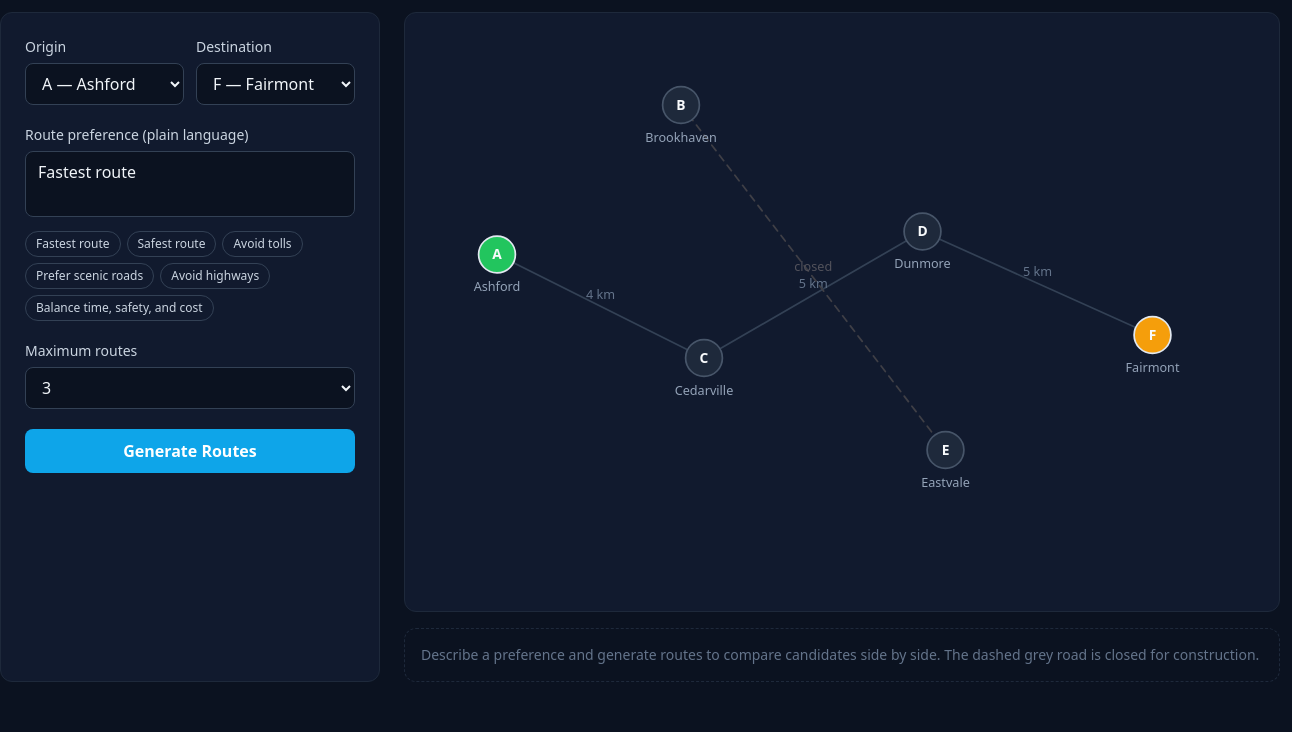
Test: RoutePlanner › clicking an example chip fills the preference input
Expected: the dropdown labelled "Origin" is shown, [25,63,184,105]
Click the button "Avoid highways": x=215, y=276 [160,263,270,289]
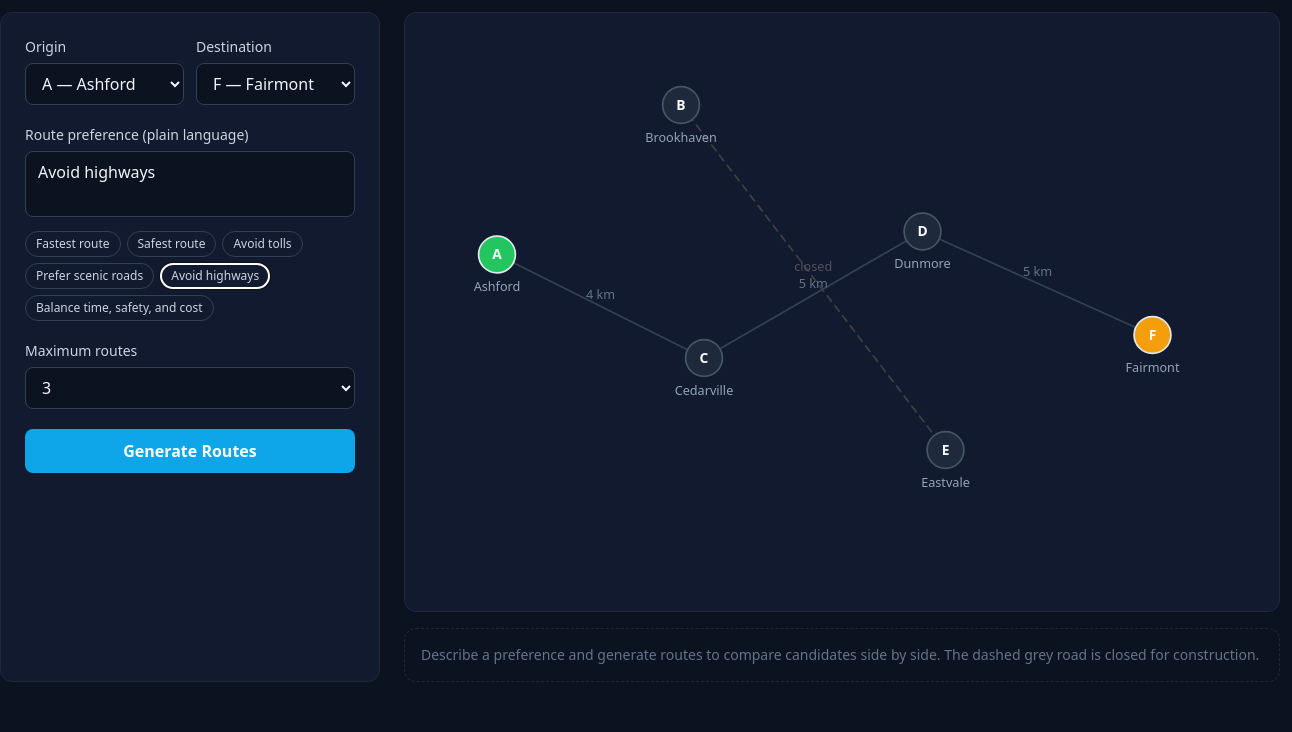
Expected: the text box labelled "Route preference (plain language)" holds "Avoid highways", [25,151,355,217]
